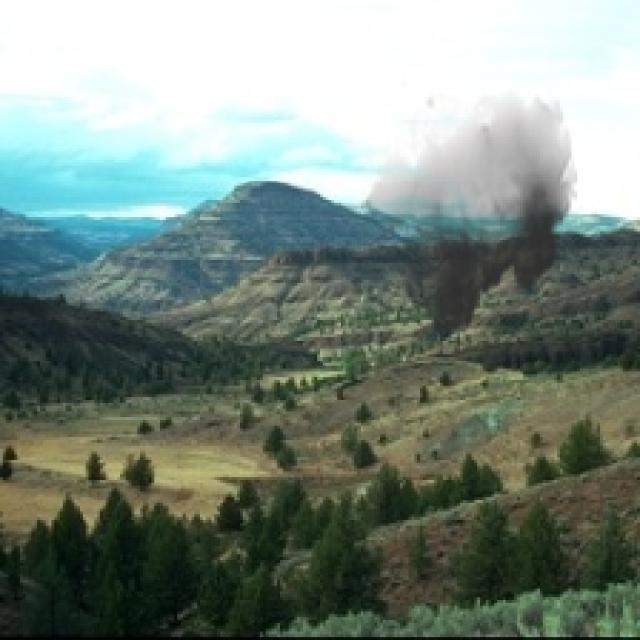Smoke: (357, 83, 577, 343)
